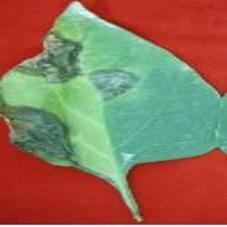Bacterial Spot: (0, 0, 222, 179)
